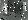person: (4, 4, 10, 17), (11, 5, 17, 16), (21, 3, 26, 12)
